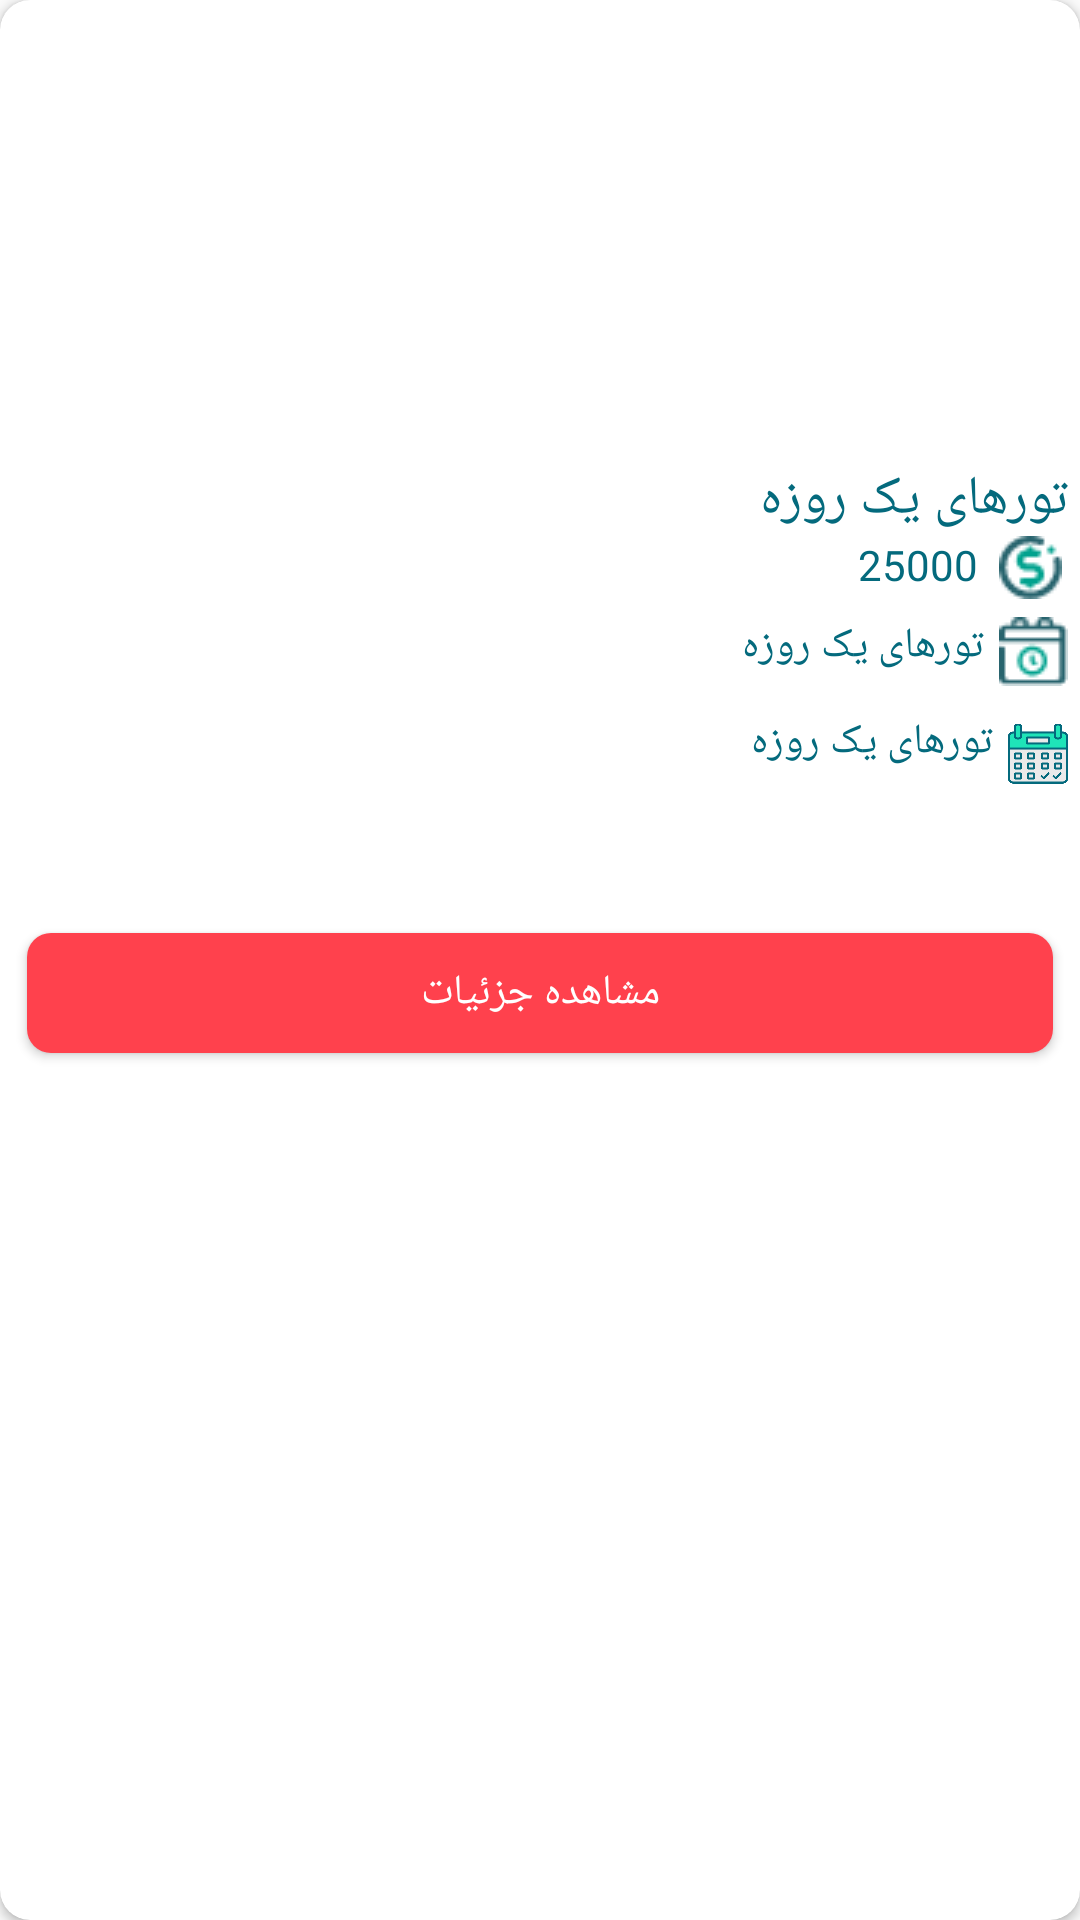

Where to tap for icons on this 1080 x 1920 app screen, as (x,y):
money: (1030,567)
